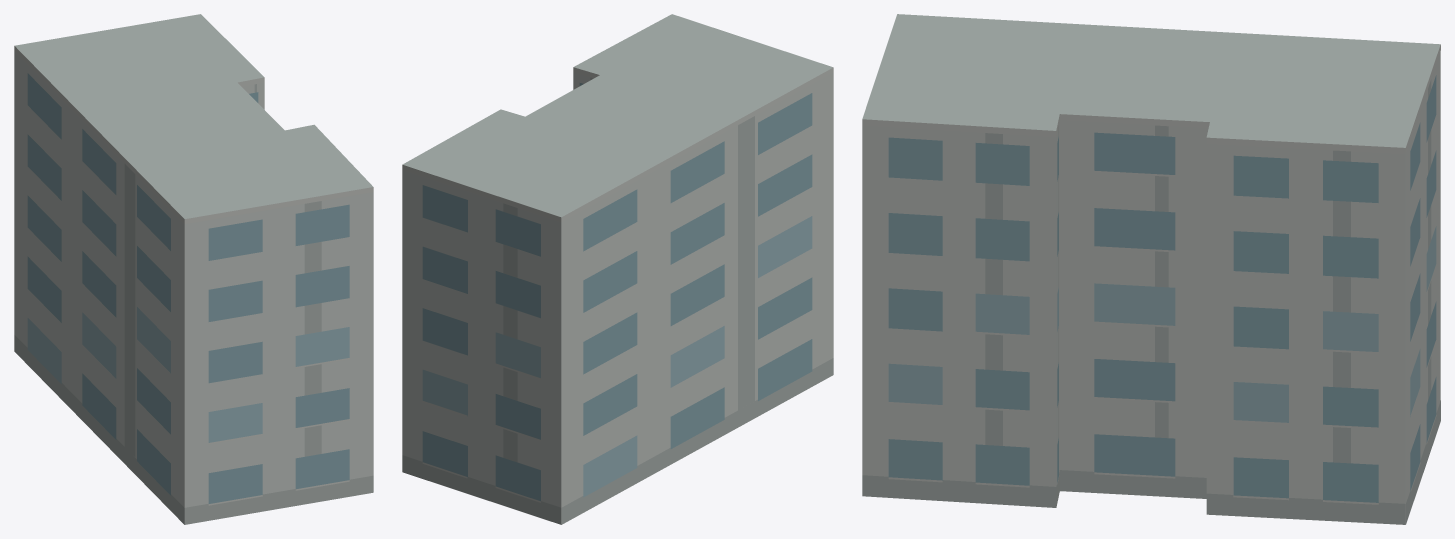
Rendered from survey-upis-32964211.glb.
3 renders of one model, left to right at view 1: azimuth 30°, elevation 25°; view 2: azimuth 150°, elevation 25°; view 3: azimuth 270°, elevation 25°, orthographic. The views are drawn at different scales.
Parts seen in each view (by area): view 1: survey-upis-32964211.tmp; view 2: survey-upis-32964211.tmp; view 3: survey-upis-32964211.tmp.
Boxes of the visible parts, x1,y1,x2,y2 form: survey-upis-32964211.tmp: (14, 14, 373, 524); survey-upis-32964211.tmp: (402, 14, 833, 524); survey-upis-32964211.tmp: (862, 14, 1440, 524).
Size of the model in its own units: 11.05 by 14.5 by 20.18.
